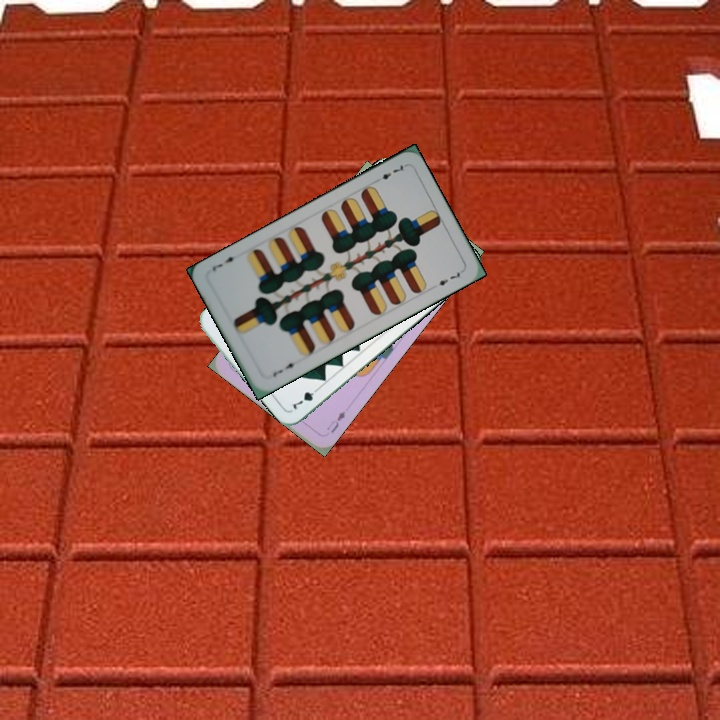E7: (370, 161, 408, 186), (268, 358, 301, 380)
EU: (322, 407, 348, 436)
G7: (287, 383, 323, 412)
